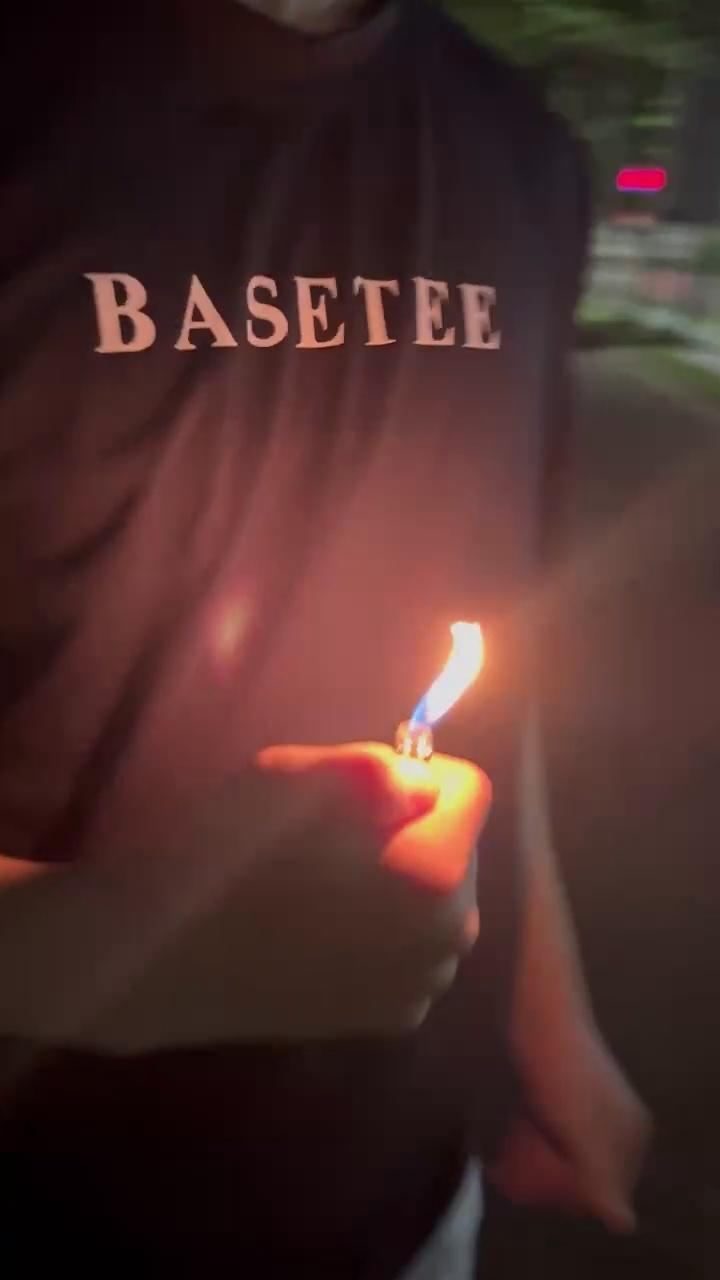Fire: (392, 600, 552, 735)
